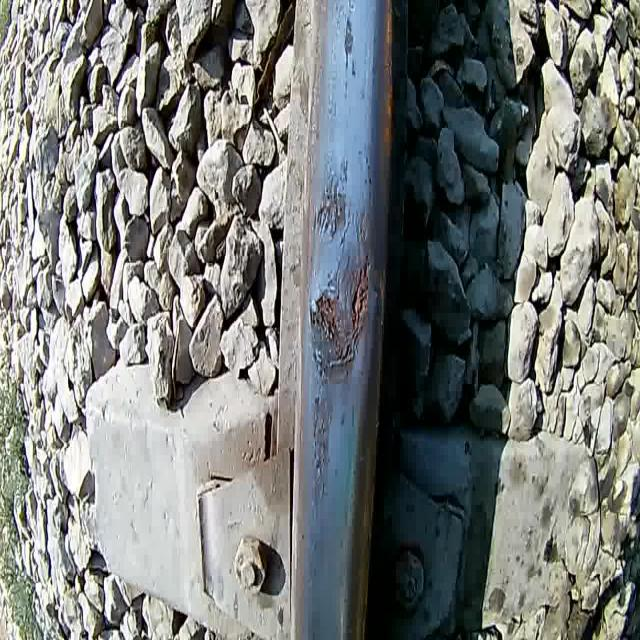Cracks: (327, 210, 351, 304), (329, 324, 365, 370), (311, 201, 334, 242)
Spallings: (336, 252, 371, 375), (308, 266, 346, 374), (312, 165, 348, 240)
Squats: (305, 208, 379, 390), (308, 150, 352, 246), (307, 389, 334, 516), (336, 11, 363, 89)
